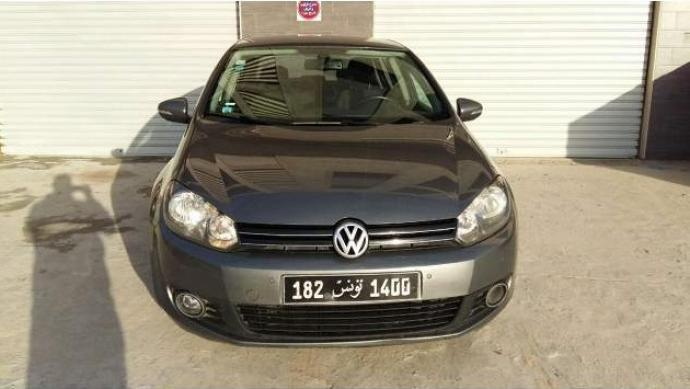LP: (282, 273, 427, 305)
